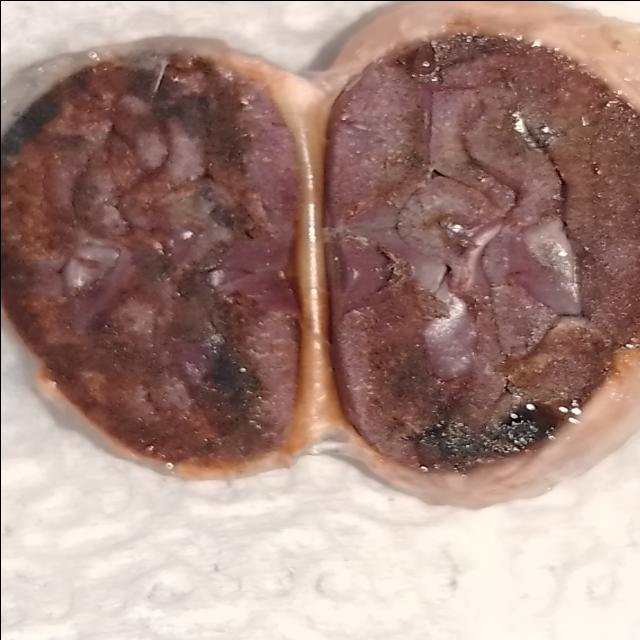Forastero: (0, 38, 339, 475), (331, 29, 628, 478)
